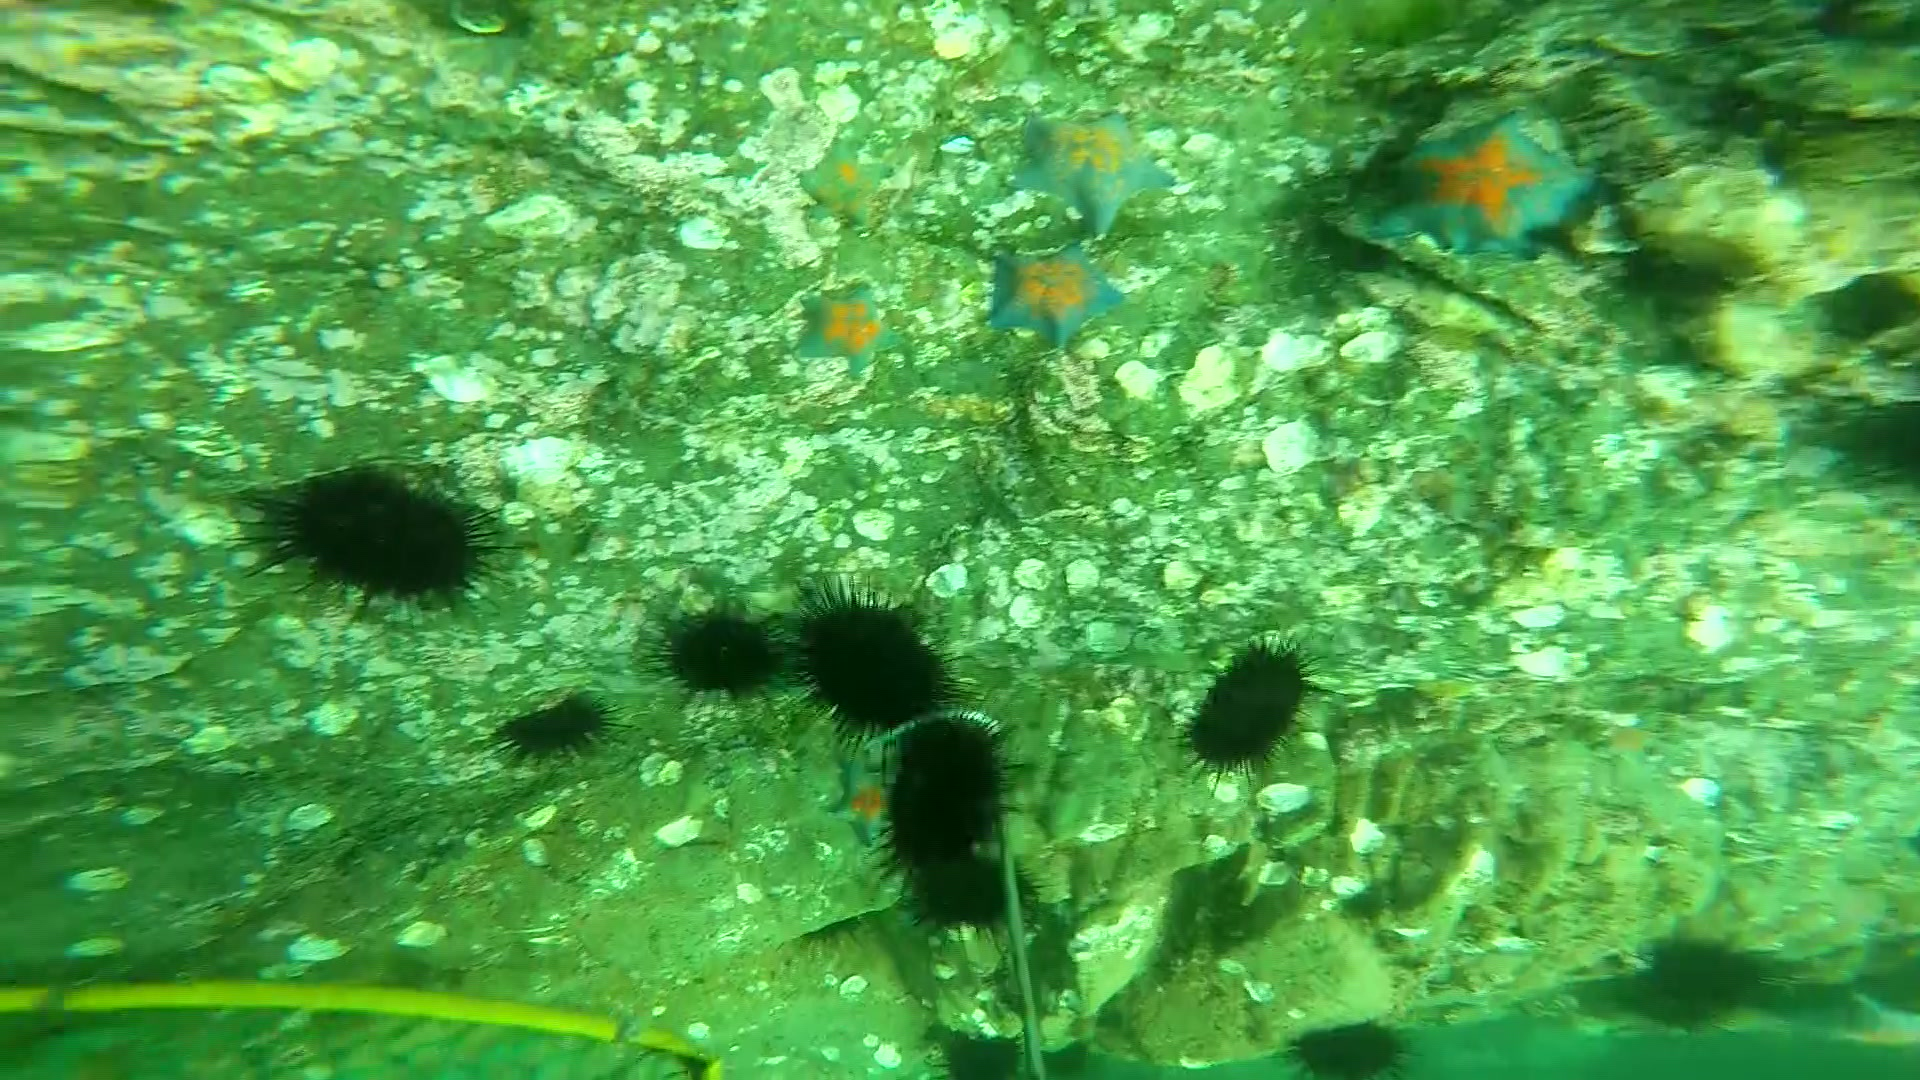echinus: (243, 462, 516, 616), (781, 572, 963, 727), (876, 709, 1019, 860), (1189, 633, 1313, 785), (1640, 916, 1771, 1029), (650, 604, 786, 704), (905, 849, 1050, 942), (501, 688, 626, 770), (1287, 1011, 1407, 1080), (944, 1023, 1040, 1080)
starfish: (1398, 117, 1598, 258), (1018, 104, 1182, 241), (985, 240, 1126, 347), (793, 280, 914, 384), (793, 135, 895, 233)
